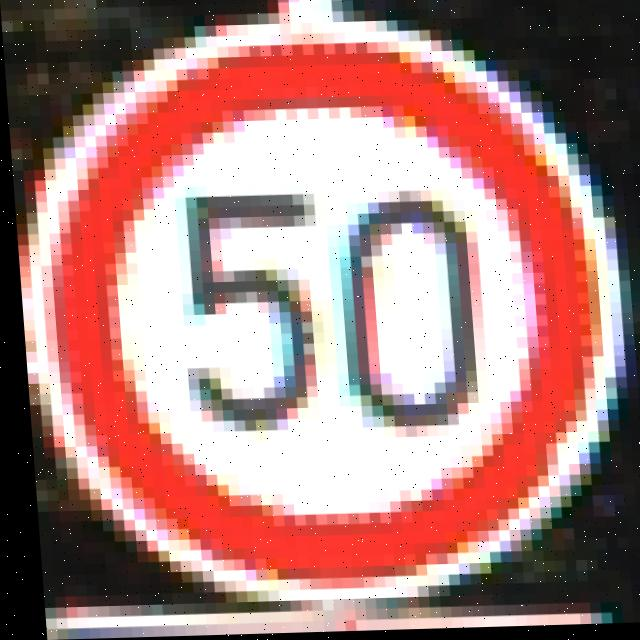speed_limit_50: (19, 17, 640, 600)
